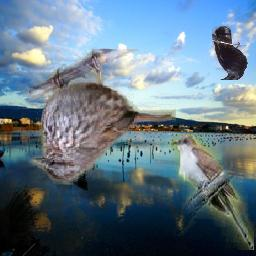Crow: (212, 26, 248, 80)
Cuckoo: (172, 134, 255, 250)
Sparrow: (30, 49, 177, 185)
